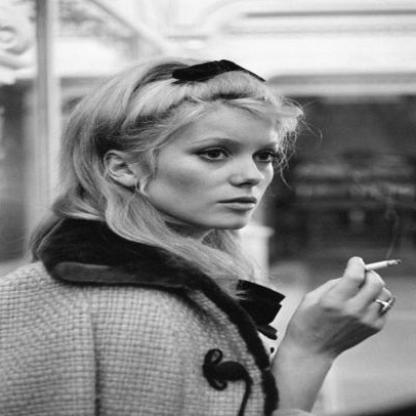cigarette: (363, 258, 405, 274)
person: (0, 62, 323, 415)
